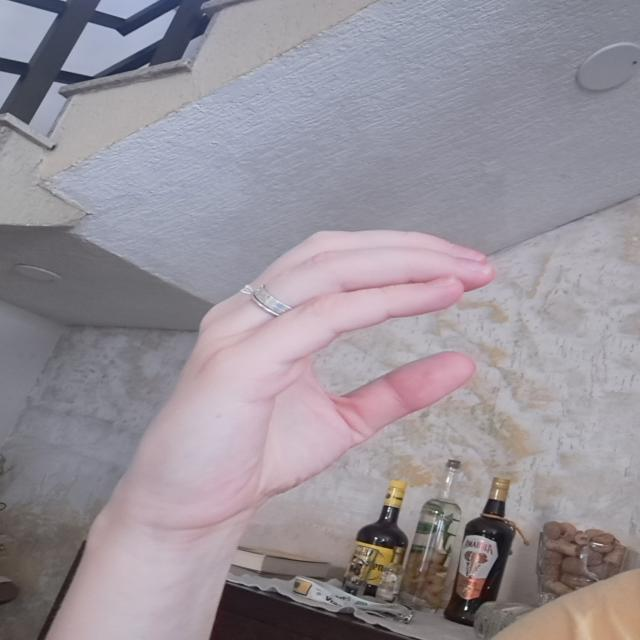C: (157, 216, 491, 504)
